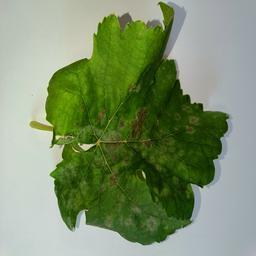Powdery-Mildew: (102, 108, 151, 157), (104, 203, 173, 237), (155, 140, 192, 175), (182, 117, 198, 134), (105, 173, 121, 189)
